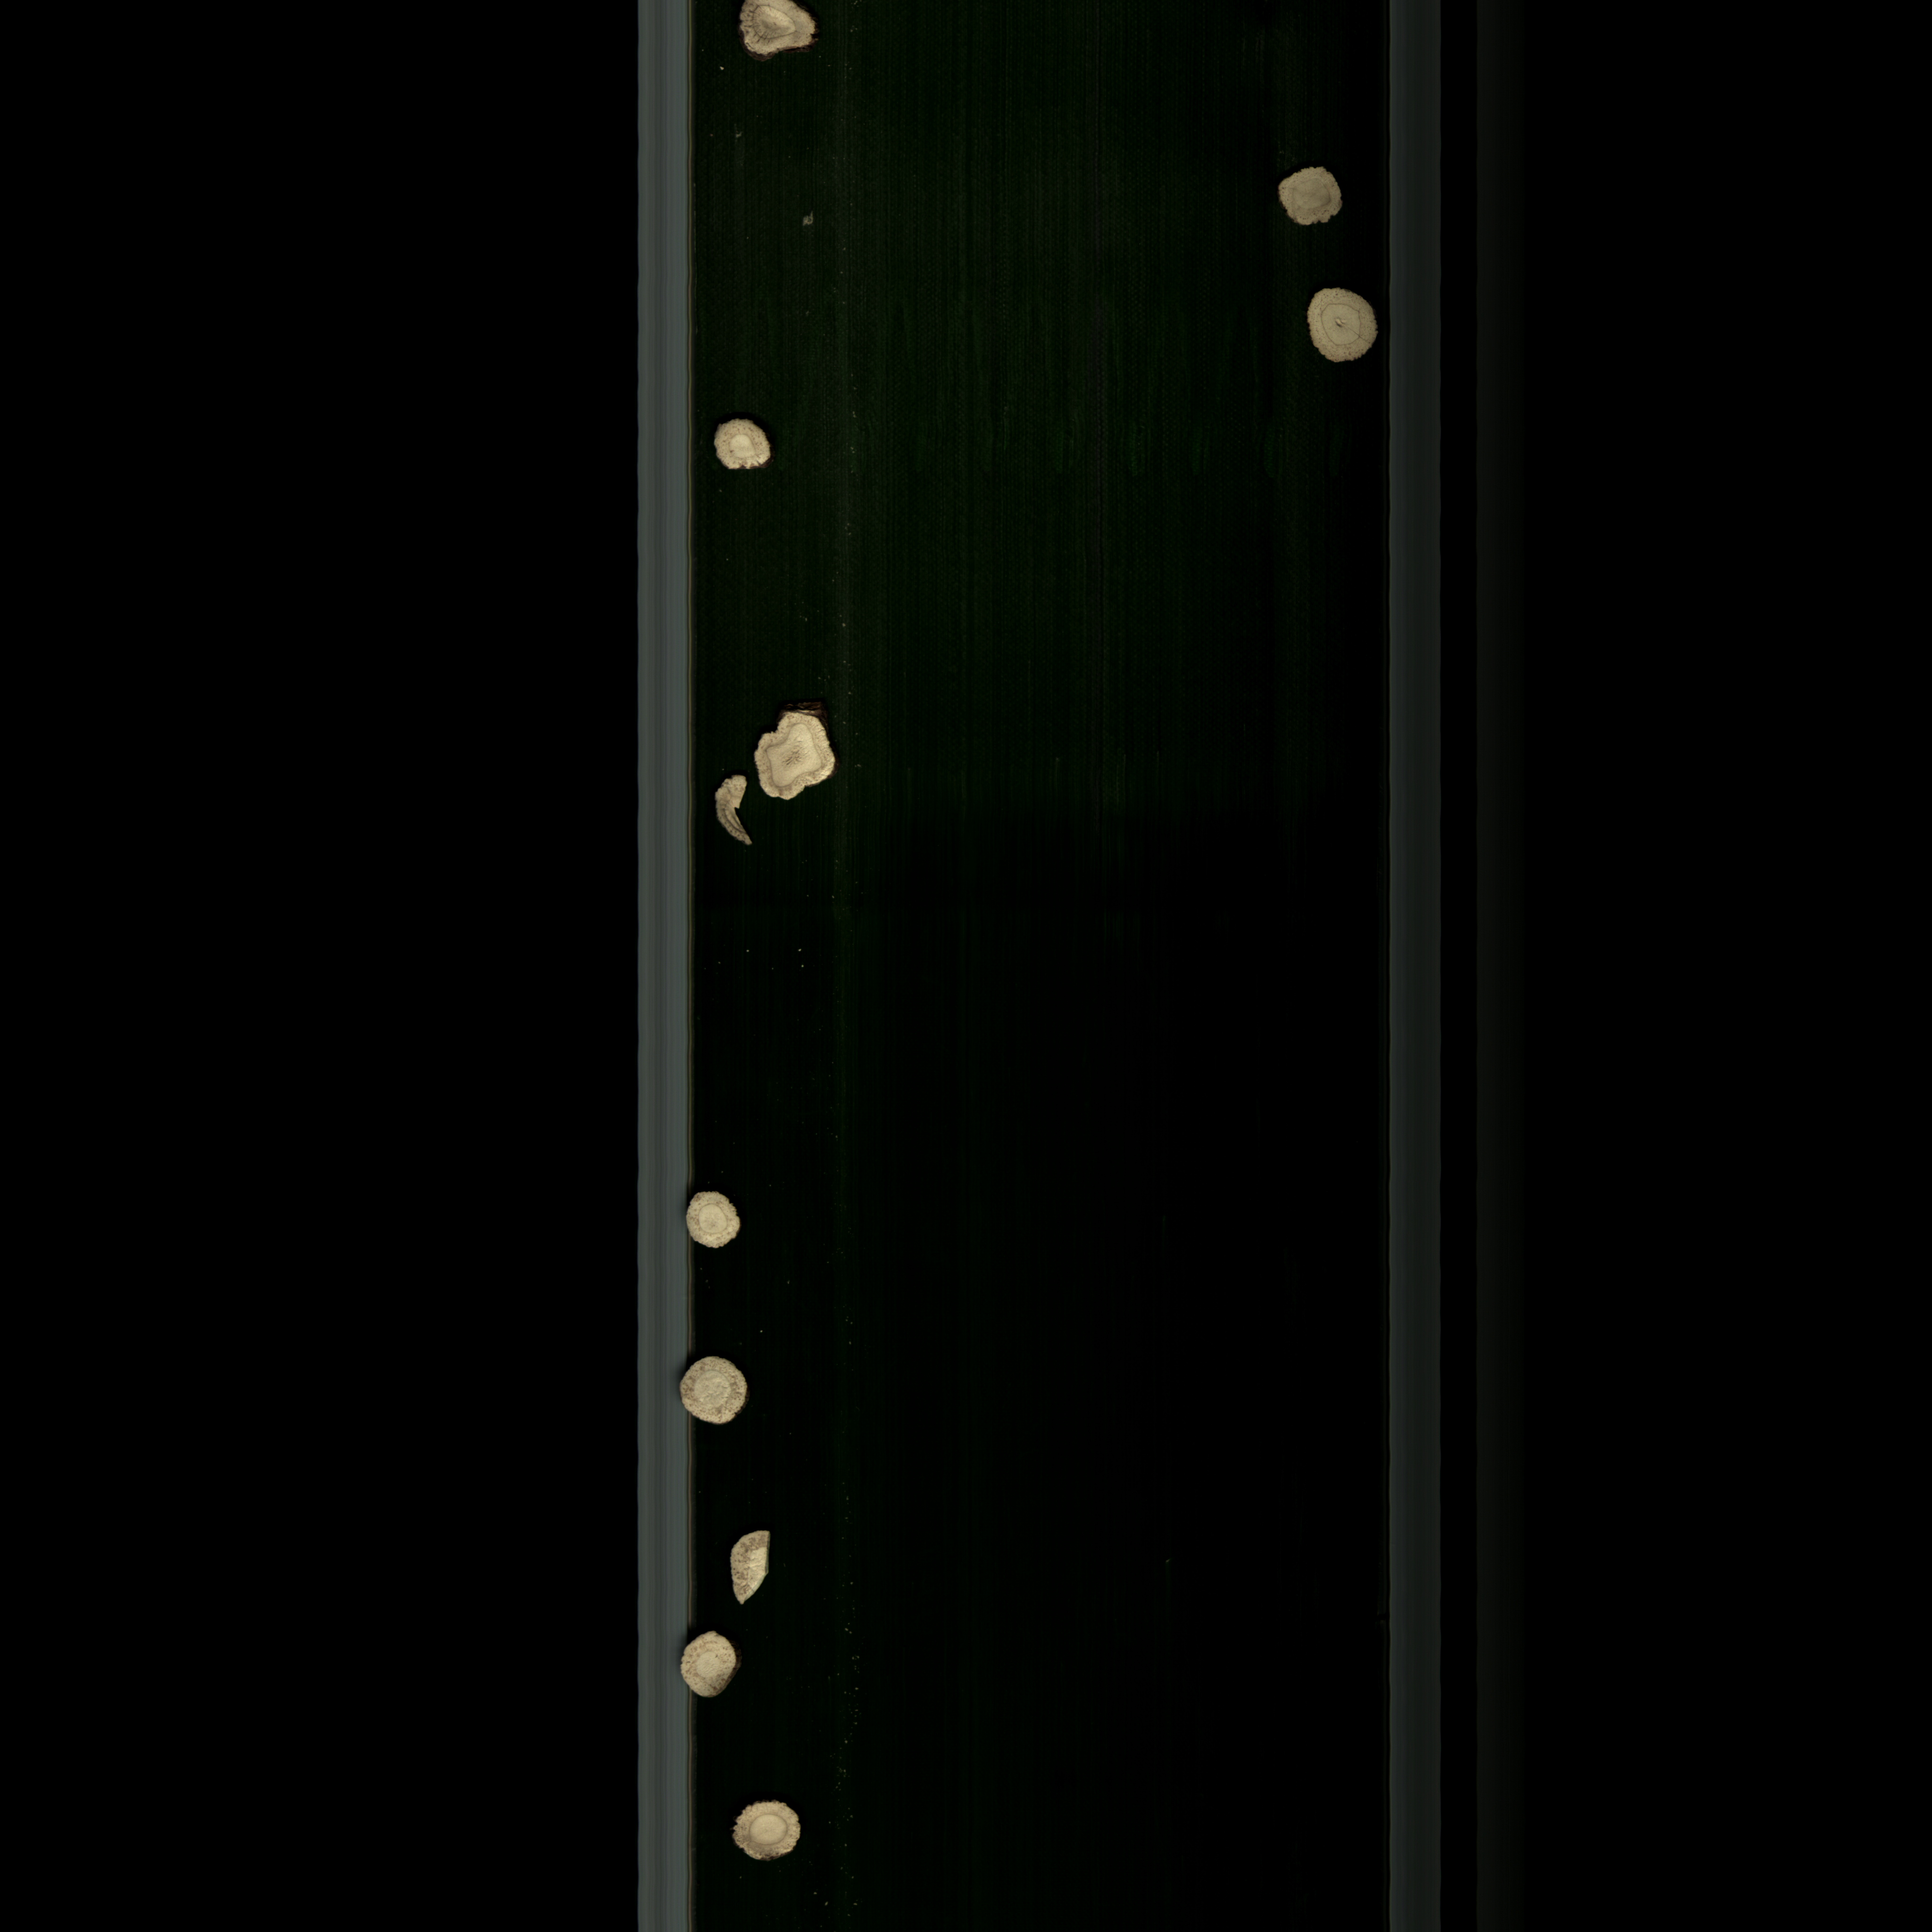dreg: (706, 773, 755, 849)
moldy: (729, 704, 847, 807), (715, 1523, 800, 1624), (1249, 159, 1357, 237), (727, 0, 824, 80), (674, 1624, 755, 1709), (706, 418, 777, 478)
